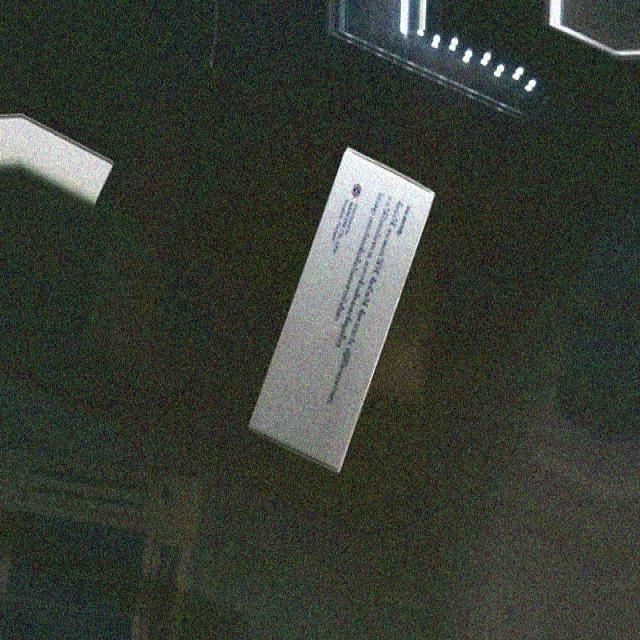sefloc: (249, 148, 433, 472)
